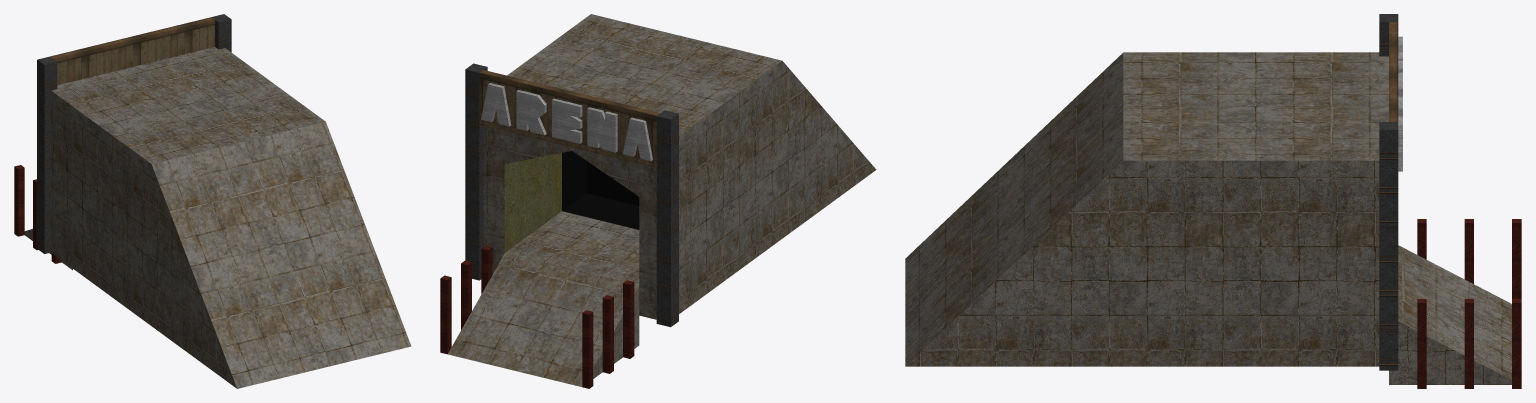
The model's file is ArenaEXT.gltf.
3 views of the same model, side by side, from view 1: azimuth 30°, elevation 25°; view 2: azimuth 150°, elevation 25°; view 3: azimuth 270°, elevation 25° (orthographic). The views are drawn at different scales.
Parts seen in each view (by area): view 1: ArenaEXT; view 2: ArenaEXT; view 3: ArenaEXT.
Part boxes in pixels (x1,y1,x2,y2): ArenaEXT: (14,14,411,388); ArenaEXT: (440,14,876,388); ArenaEXT: (905,14,1521,388).
Bounding box in the file's own units: 14.5 × 16 × 32.5.
8 materials, 8 textured.
